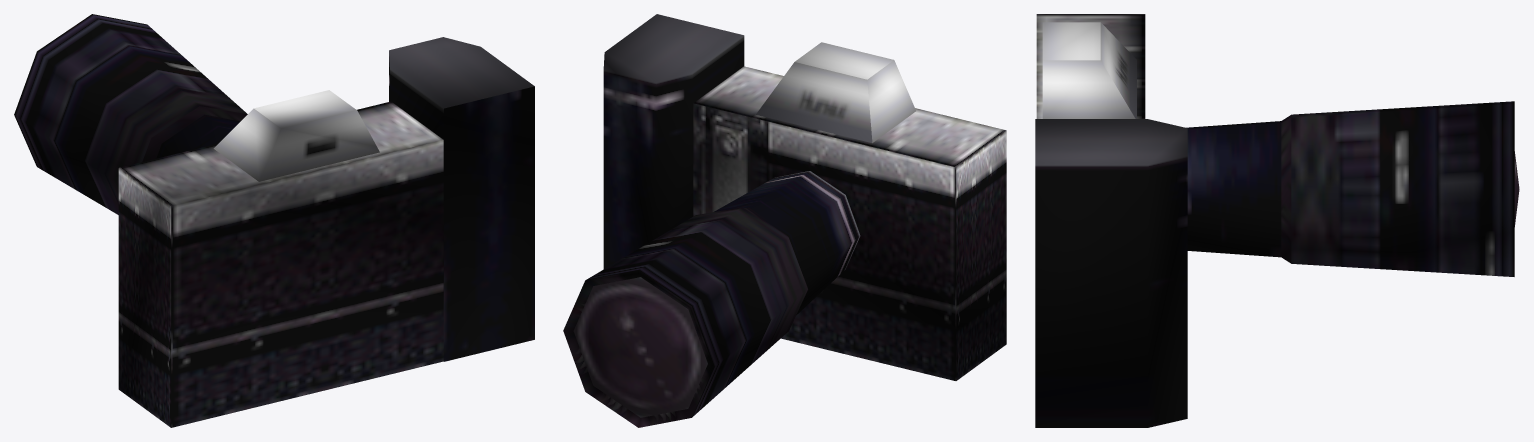
Rendered from ICON.ICO.obj.
The picture shows the model from 3 angles, left to right: view 1: azimuth 30°, elevation 25°; view 2: azimuth 150°, elevation 25°; view 3: azimuth 270°, elevation 25°; orthographic projection. The views are drawn at different scales.
Size of the model in its own units: 3 by 2.12 by 3.34.
1 material, 1 textured.
